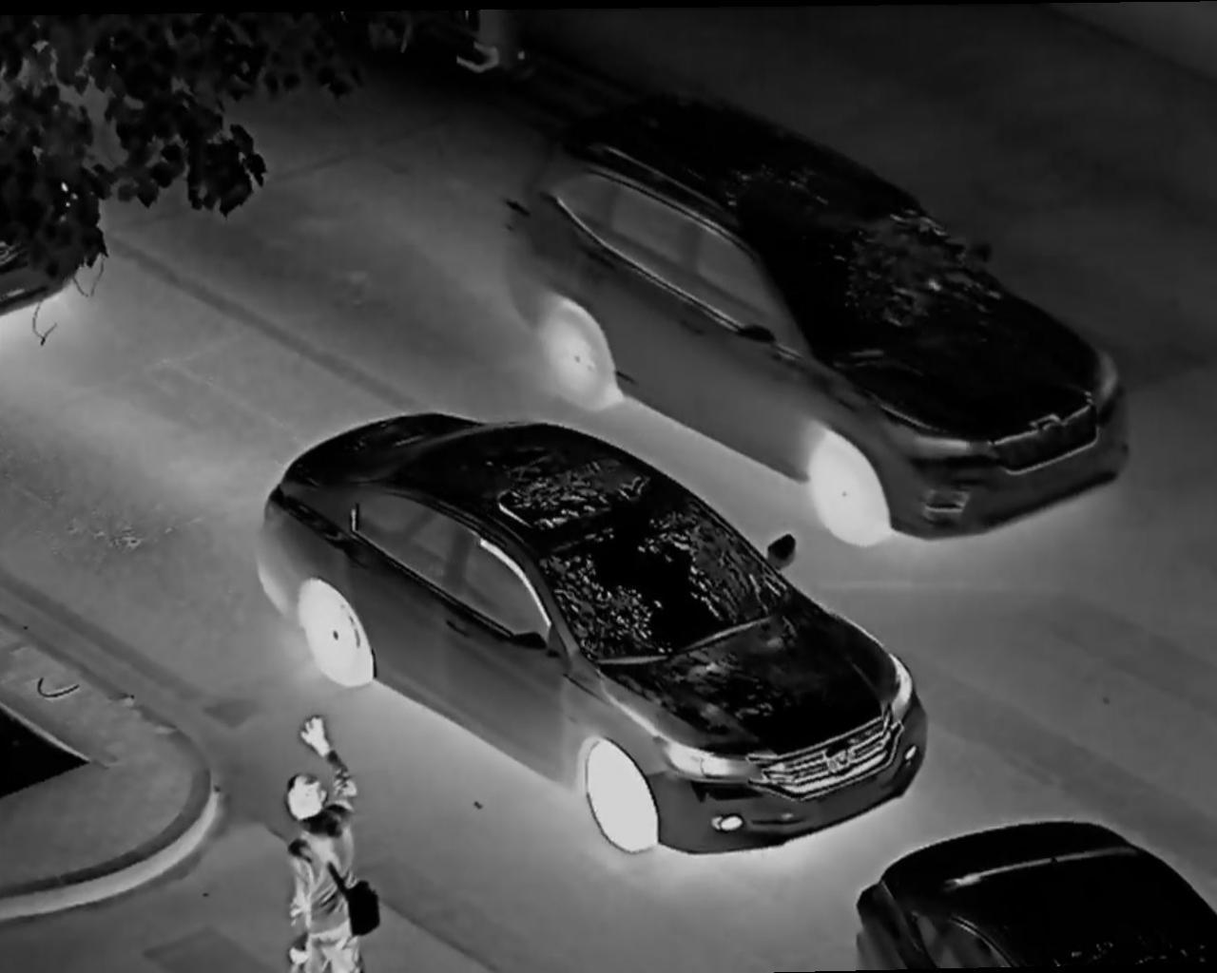person: (277, 716, 382, 973)
